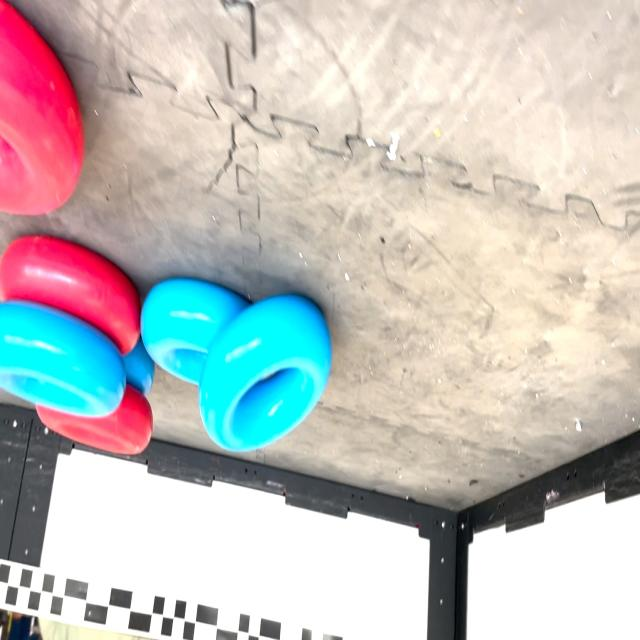Blue-Ring: (199, 296, 331, 451), (0, 300, 126, 418), (141, 278, 248, 384)
Red-Ring: (0, 0, 84, 216), (0, 236, 141, 356), (36, 384, 152, 456)
